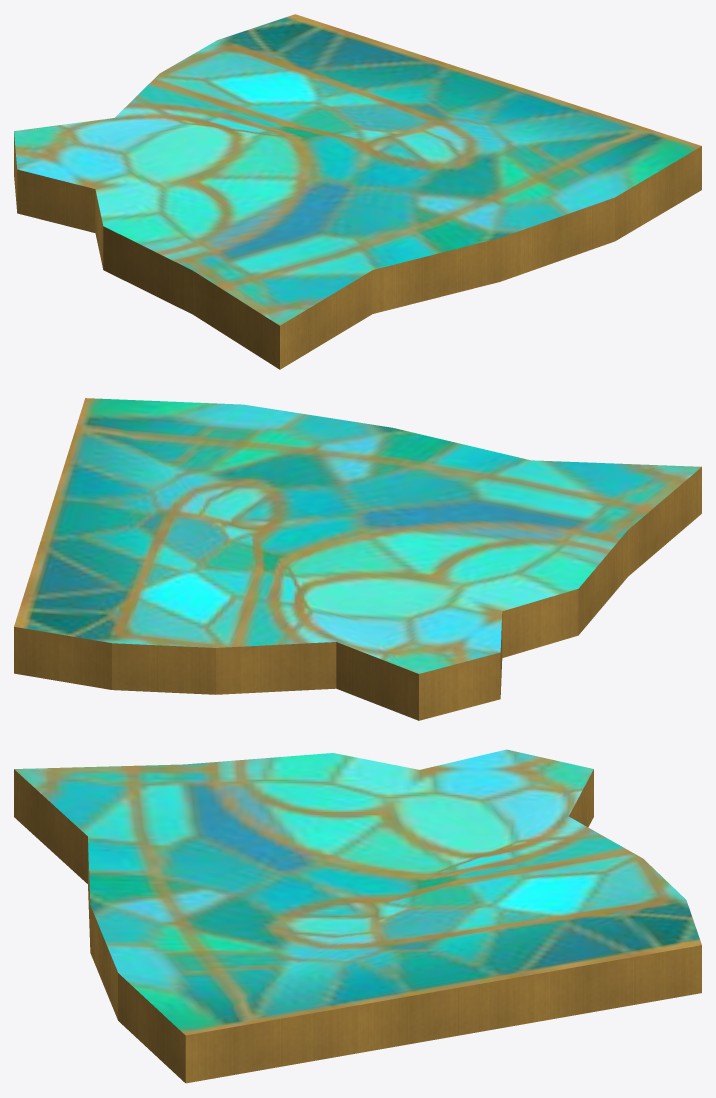
Rendered from lb_chunk_4_2.glb.
The picture shows the model from 3 angles, top to bottom: view 1: azimuth 30°, elevation 25°; view 2: azimuth 150°, elevation 25°; view 3: azimuth 270°, elevation 25°; orthographic projection. The views are drawn at different scales.
Visible parts, largest first — view 1: lb_chunk_4_2; view 2: lb_chunk_4_2; view 3: lb_chunk_4_2.
Part boxes in pixels (<box>): lb_chunk_4_2: <box>14,14,701,369</box>; lb_chunk_4_2: <box>14,398,701,720</box>; lb_chunk_4_2: <box>14,749,701,1083</box>.
Bounding box in the file's own units: 4.6 × 0.36 × 4.68.
2 materials, 2 textured.
